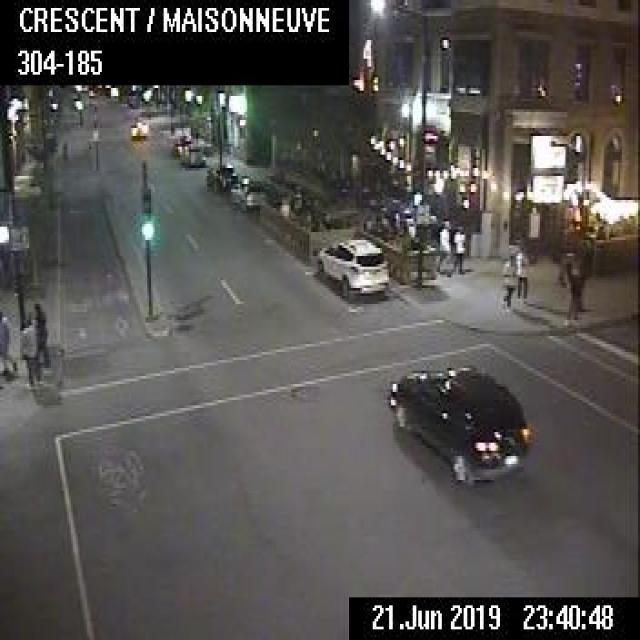pedestrian: (18, 314, 41, 387), (562, 250, 583, 321), (32, 300, 50, 370), (0, 306, 16, 378), (436, 215, 451, 274), (512, 246, 528, 301), (501, 252, 516, 306), (451, 223, 464, 275)
vehicle: (387, 363, 533, 485), (314, 234, 389, 299), (228, 175, 265, 208), (205, 161, 236, 190), (180, 142, 203, 164), (128, 118, 148, 140), (171, 133, 191, 154)
